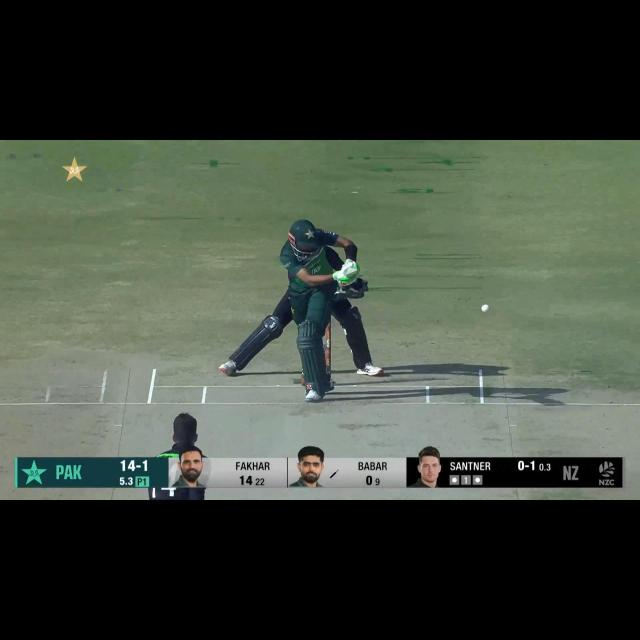bat: (338, 258, 361, 283)
toe: (340, 263, 357, 279)
